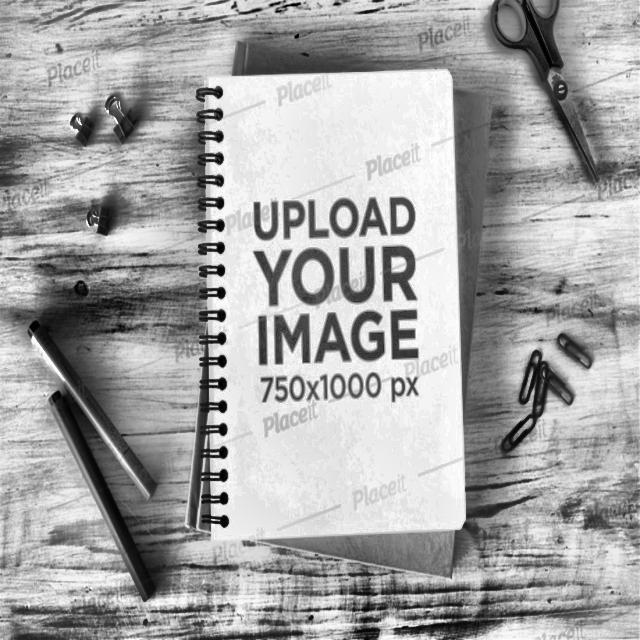Notebook: (189, 60, 478, 560)
